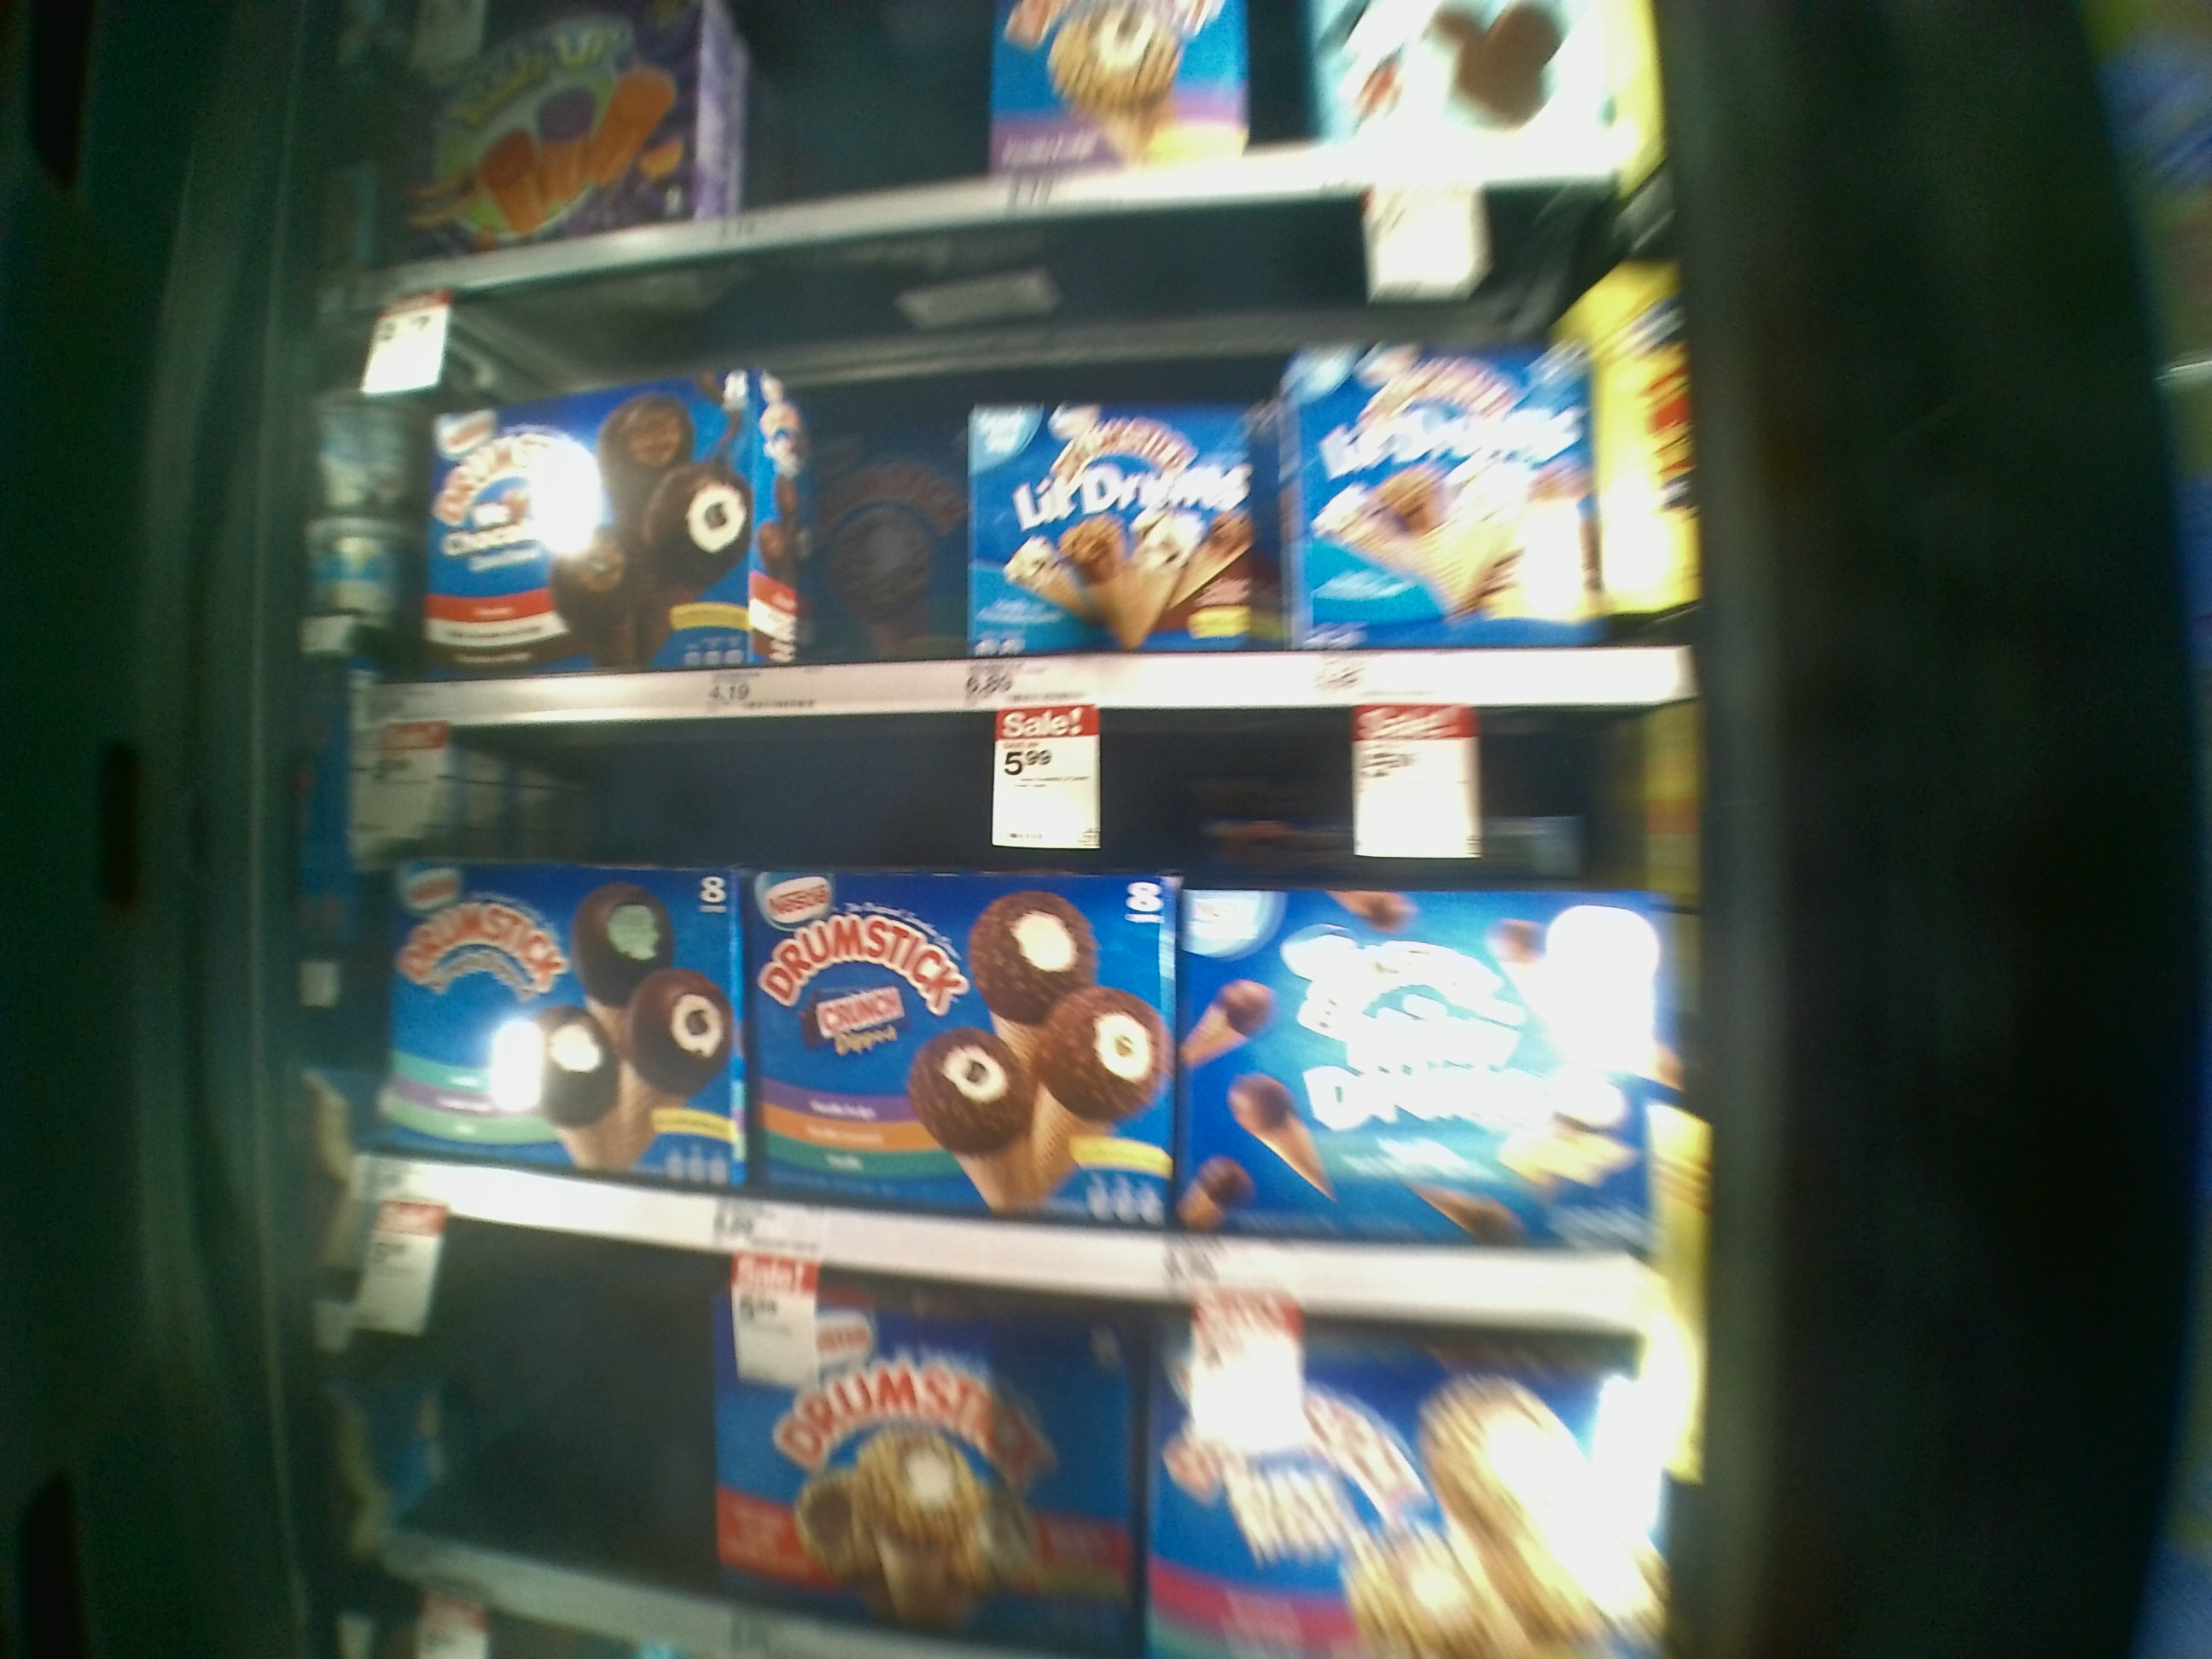shelf: (310, 716, 1714, 1324), (315, 186, 1696, 716)
